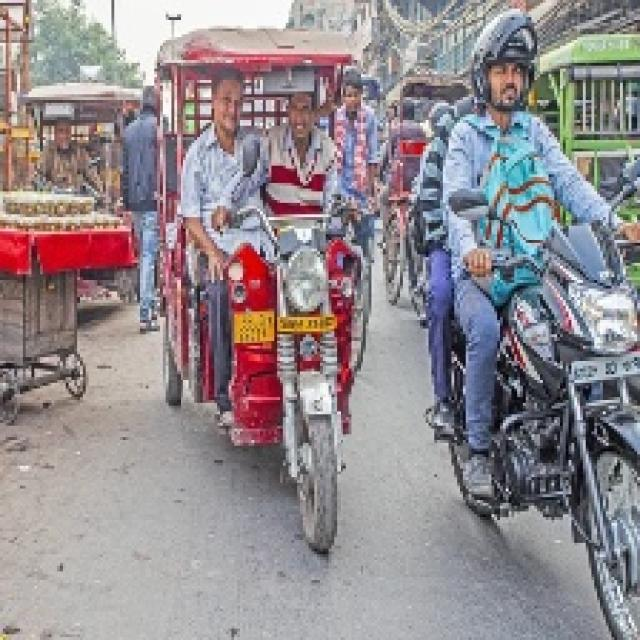bike: (433, 198, 635, 639)
rickshaw: (153, 37, 365, 551)
